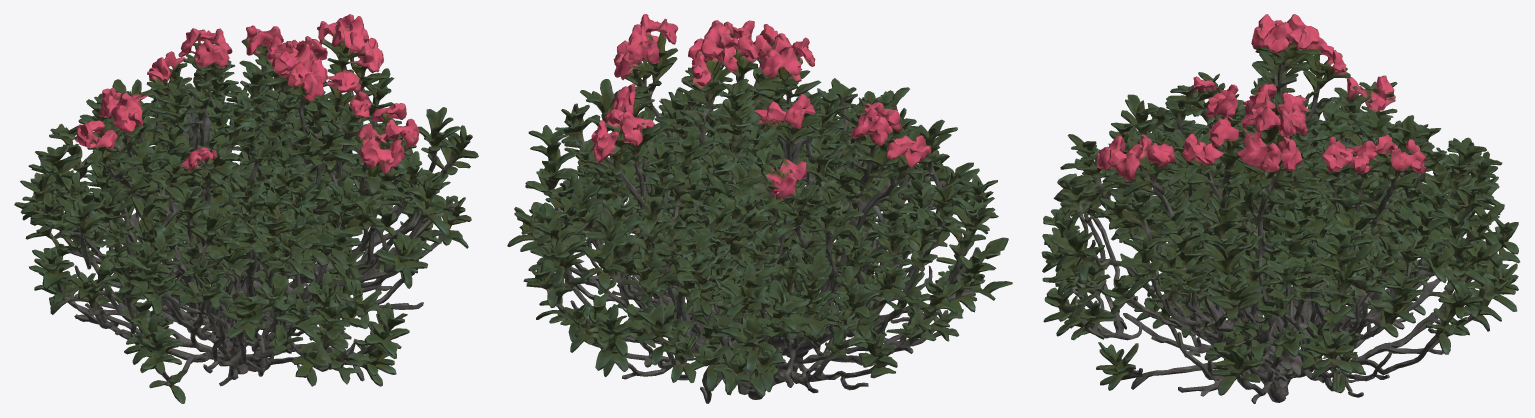
Rendered from alpenrose-v20.glb.
3 renders of one model, left to right at view 1: azimuth 30°, elevation 25°; view 2: azimuth 150°, elevation 25°; view 3: azimuth 270°, elevation 25°, orthographic. The views are drawn at different scales.
Parts seen in each view (by area): view 1: geometry_0; view 2: geometry_0; view 3: geometry_0.
Part boxes in pixels (x1,y1,x2,y2): geometry_0: (14, 14, 478, 403); geometry_0: (507, 14, 1012, 403); geometry_0: (1041, 14, 1520, 403).
Bounding box in the file's own units: 0.8 × 0.6671 × 0.8.
1 material, 1 textured.
